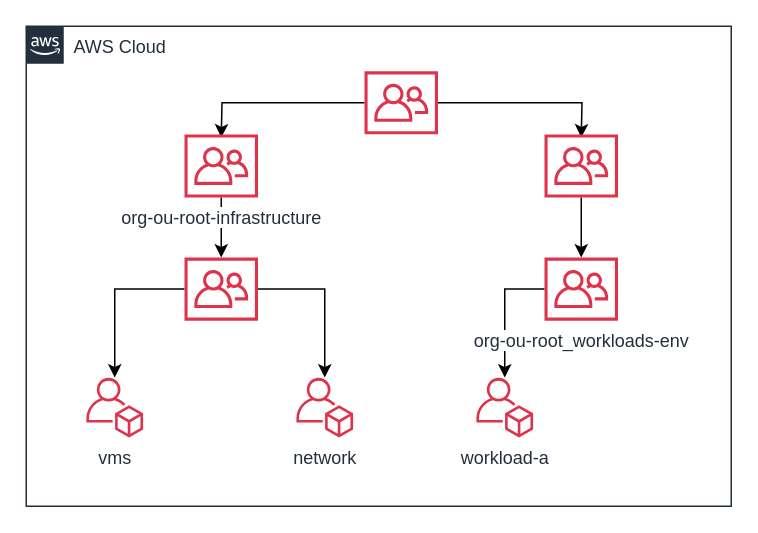
The diagram is 758 pixels wide and 533 high, and some of its shapes have lost their labels. Here are the shapes that lost their labels. From the top down, the centre of each, then its label:
At pixel 400 102: "org-ou-root".
At pixel 580 165: "org-ou-root_workloads".
At pixel 220 288: "org-ou-root_infrastructure-env".
